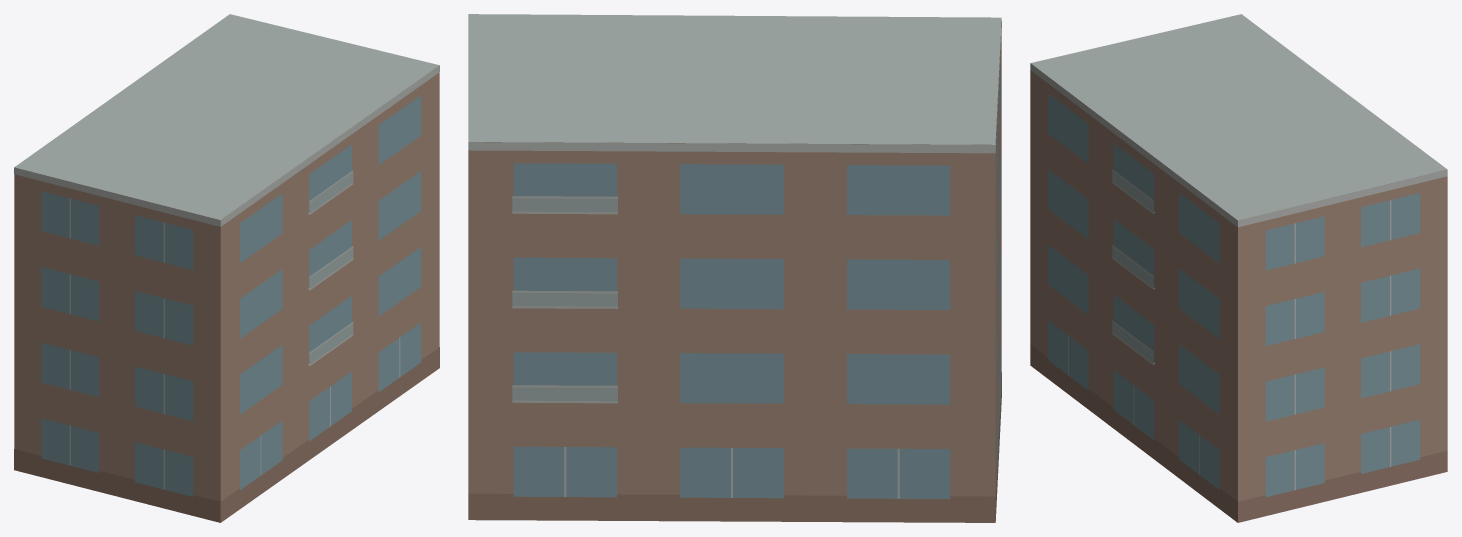
File: survey-upis-32666028.glb
The picture shows the model from 3 angles, left to right: view 1: azimuth 30°, elevation 25°; view 2: azimuth 150°, elevation 25°; view 3: azimuth 270°, elevation 25°; orthographic projection. The views are drawn at different scales.
Parts seen in each view (by area): view 1: survey-upis-32666028.tmp; view 2: survey-upis-32666028.tmp; view 3: survey-upis-32666028.tmp.
Part boxes in pixels (box(x1,y1,x2,y2)): survey-upis-32666028.tmp: box(14, 14, 439, 522); survey-upis-32666028.tmp: box(468, 14, 1001, 522); survey-upis-32666028.tmp: box(1030, 14, 1447, 522).
Bounding box in the file's own units: 15.83 × 10.8 × 13.52.
